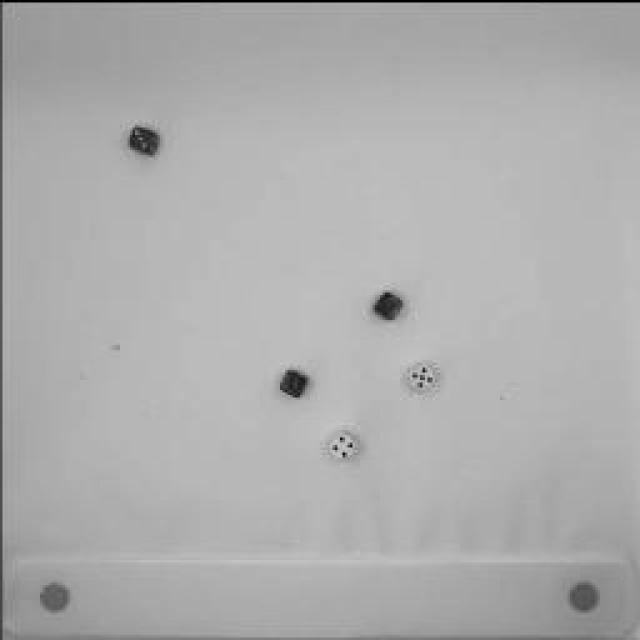dice_1: (279, 365, 309, 400)
dice_3: (373, 280, 405, 325), (125, 124, 160, 156)
dice_4: (325, 428, 357, 462)
dice_5: (405, 362, 445, 396)
